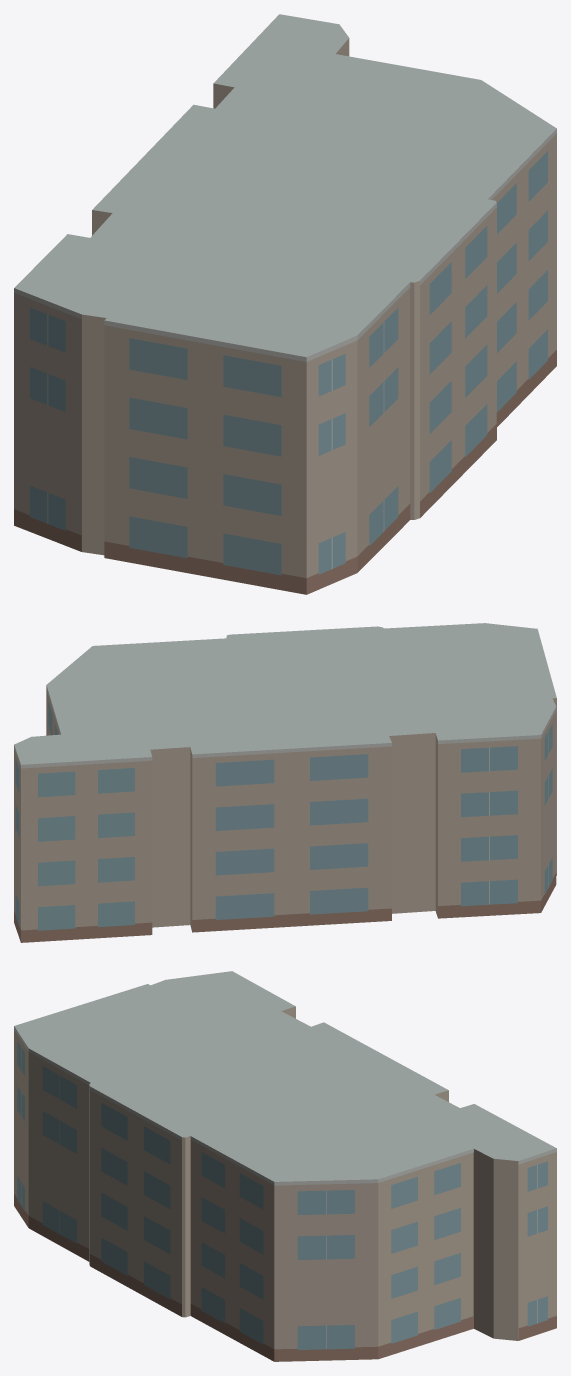
Rendered from survey-upis-32499395.glb.
3 renders of one model, top to bottom at view 1: azimuth 30°, elevation 25°; view 2: azimuth 150°, elevation 25°; view 3: azimuth 270°, elevation 25°, orthographic. The views are drawn at different scales.
Parts seen in each view (by area): view 1: survey-upis-32499395.tmp; view 2: survey-upis-32499395.tmp; view 3: survey-upis-32499395.tmp.
Boxes of the visible parts, x1,y1,x2,y2 form: survey-upis-32499395.tmp: (14, 14, 556, 594); survey-upis-32499395.tmp: (14, 623, 556, 942); survey-upis-32499395.tmp: (14, 971, 556, 1361).
Bounding box in the file's own units: 30.17 × 12 × 32.82.
